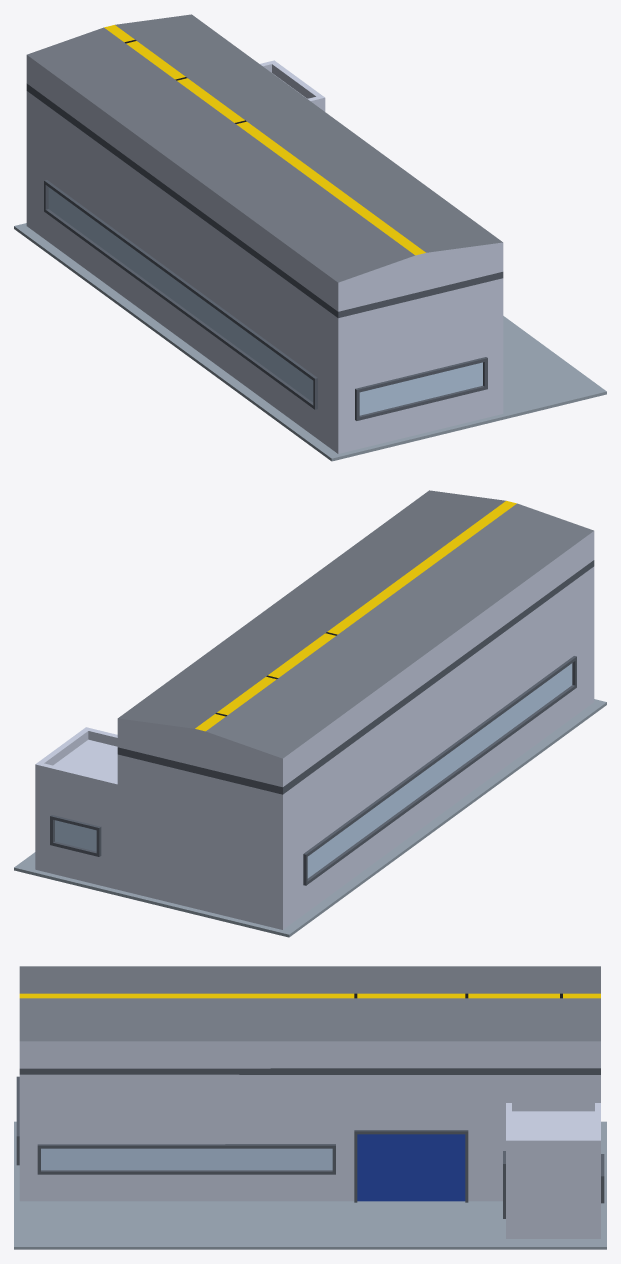
File: factory2.glb
3 renders of one model, top to bottom at view 1: azimuth 30°, elevation 25°; view 2: azimuth 150°, elevation 25°; view 3: azimuth 270°, elevation 25°, orthographic. The views are drawn at different scales.
Parts seen in each view (by area): view 1: factory2; view 2: factory2; view 3: factory2.
Part boxes in pixels (x1=…): factory2: x1=14, y1=14, x2=606, y2=461; factory2: x1=14, y1=490, x2=606, y2=937; factory2: x1=14, y1=966, x2=606, y2=1249.
Size of the model in its own units: 10 by 6.34 by 20.
